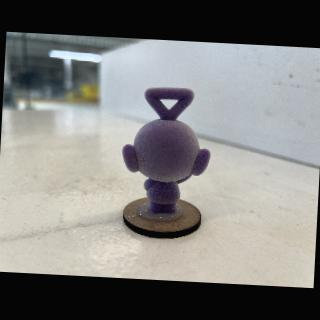teletubby: (123, 88, 211, 222)
